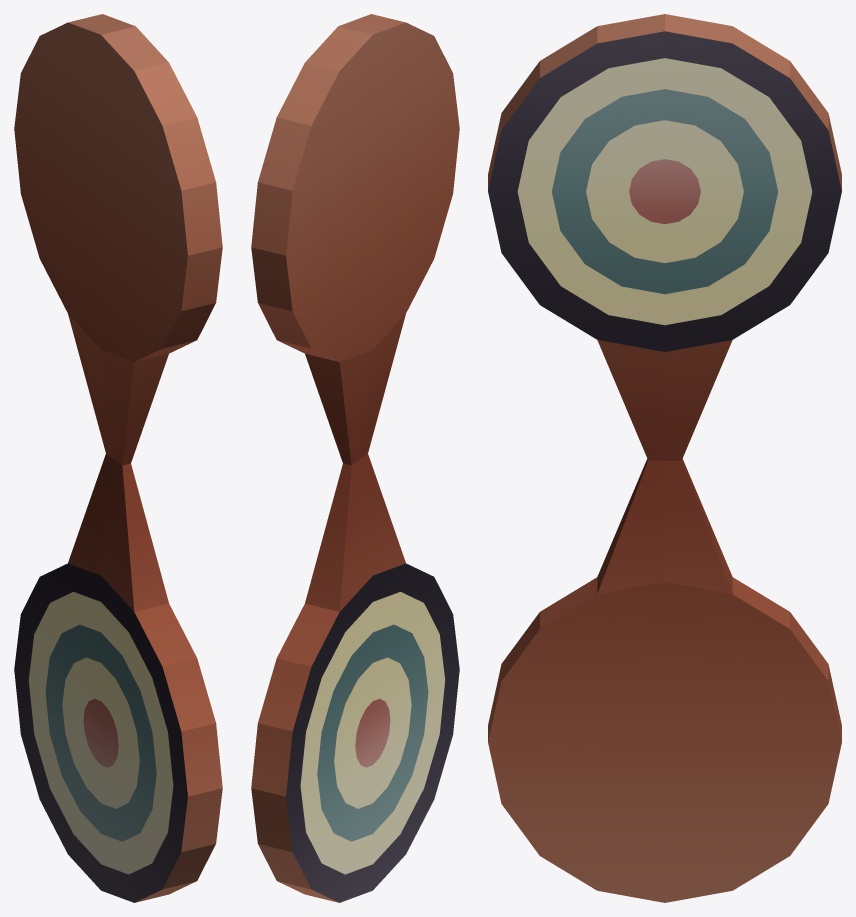
Rendered from targetSpin.fbx.
The picture shows the model from 3 angles, left to right: view 1: azimuth 30°, elevation 25°; view 2: azimuth 150°, elevation 25°; view 3: azimuth 270°, elevation 25°; orthographic projection.
Visible parts, largest first — view 1: target; view 2: target; view 3: target.
Boxes of the visible parts, x1,y1,x2,y2 form: target: (14, 14, 222, 902); target: (251, 14, 459, 902); target: (488, 14, 841, 902).
Size of the model in its own units: 0.0846 by 1.99 by 0.7318.
